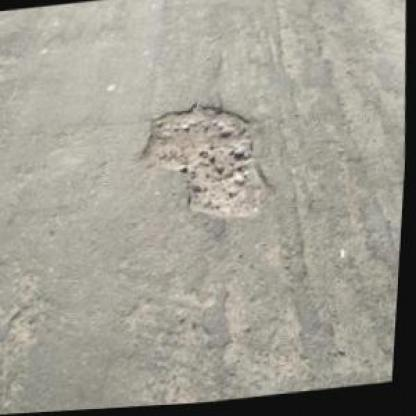pothole: (133, 94, 283, 236)
